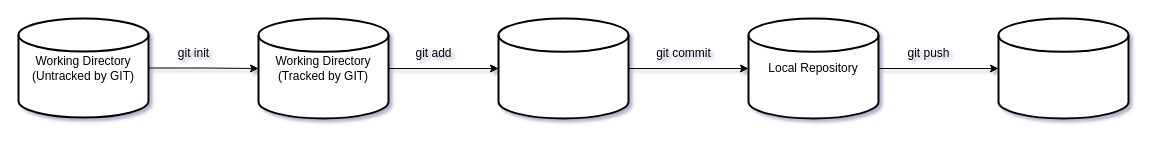
The diagram is 1152 pixels wide and 142 high, and some of its shapes have lost their labels. Each missing label, with the centre of its shape:
"Remote Repository" belongs at point 1063,68.
"Staged Area" belongs at point 563,68.
